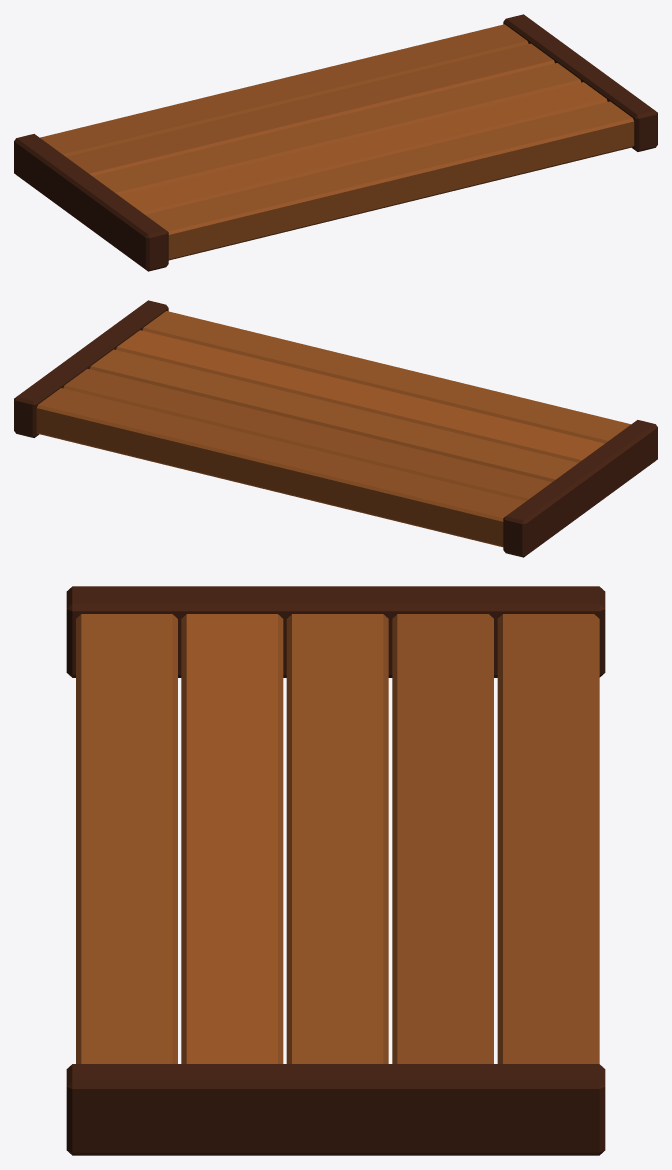
File: D09_Table_Top_2m.fbx
3 renders of one model, top to bottom at view 1: azimuth 30°, elevation 25°; view 2: azimuth 150°, elevation 25°; view 3: azimuth 270°, elevation 25°, orthographic. The views are drawn at different scales.
Visible parts, largest first — view 1: D09_Table_Top_2m; view 2: D09_Table_Top_2m; view 3: D09_Table_Top_2m.
Boxes of the visible parts, bbox=[...] form: D09_Table_Top_2m: bbox=[14, 14, 657, 271]; D09_Table_Top_2m: bbox=[14, 300, 657, 557]; D09_Table_Top_2m: bbox=[66, 586, 605, 1155].
Bounding box in the file's own units: 2.02 × 0.14 × 0.92.
Materials: 2 (2 with a texture image).
